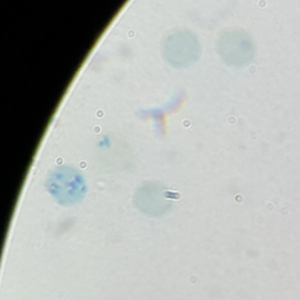aggregate reticulocyte: (43, 165, 89, 209)
erythrocyte: (215, 26, 259, 69), (129, 179, 176, 218)
punctate reticulocyte: (160, 28, 204, 70)
